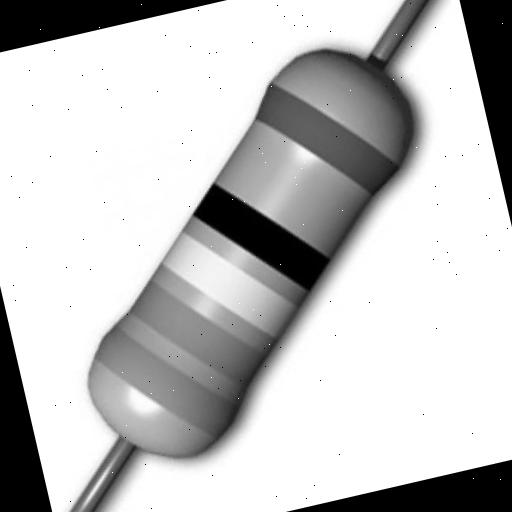RESISTOR: (0, 3, 512, 512)
